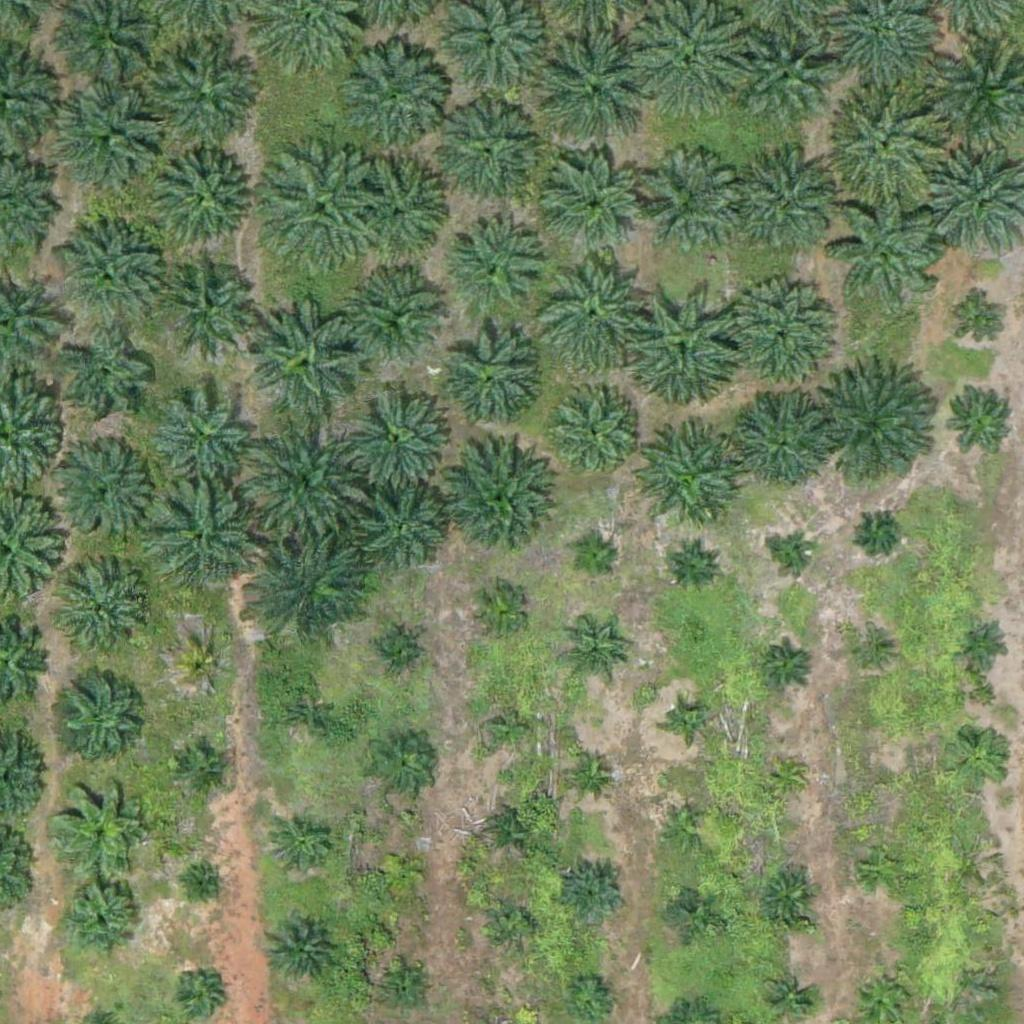Kelapa_Sawit: (327, 34, 452, 160), (534, 30, 659, 156), (623, 284, 748, 410), (531, 250, 656, 376), (256, 145, 381, 271), (241, 415, 366, 541), (249, 526, 374, 652), (819, 365, 944, 490), (440, 446, 553, 560), (831, 192, 944, 305), (720, 278, 833, 391), (149, 484, 262, 597), (54, 219, 167, 332), (341, 376, 453, 490), (251, 296, 363, 410), (145, 45, 257, 158), (832, 87, 944, 200), (629, 428, 741, 541), (730, 389, 830, 490), (736, 154, 836, 255), (635, 153, 735, 254), (545, 156, 645, 257), (544, 383, 644, 484), (433, 103, 533, 204), (445, 219, 545, 320), (347, 152, 447, 253), (153, 385, 253, 486), (57, 331, 157, 432), (52, 440, 152, 541), (50, 775, 150, 876), (437, 328, 537, 428), (350, 267, 450, 367), (150, 147, 250, 247), (159, 255, 259, 355), (62, 91, 162, 191), (63, 569, 151, 658), (57, 876, 145, 964), (359, 487, 447, 575), (740, 36, 827, 125), (57, 665, 144, 753), (263, 912, 338, 988), (943, 381, 1018, 456), (561, 626, 624, 689), (467, 580, 530, 643), (563, 862, 626, 925), (478, 697, 541, 760), (371, 735, 433, 798), (271, 814, 333, 877), (758, 866, 820, 929), (948, 727, 1010, 790), (275, 684, 337, 747), (668, 883, 718, 934), (488, 805, 538, 856), (957, 298, 1007, 349), (564, 748, 614, 799), (489, 899, 539, 950), (368, 626, 418, 677), (377, 845, 427, 896), (565, 972, 615, 1023), (763, 972, 813, 1023), (178, 743, 228, 793), (668, 541, 718, 591), (762, 639, 812, 689), (958, 618, 1008, 668), (858, 843, 908, 893), (661, 803, 711, 853), (569, 536, 619, 586), (383, 966, 433, 1016), (172, 972, 222, 1022), (179, 643, 229, 693), (859, 511, 897, 549), (767, 757, 805, 795), (670, 702, 708, 740), (776, 537, 813, 575), (853, 635, 890, 673), (865, 764, 902, 802), (193, 871, 218, 896)
